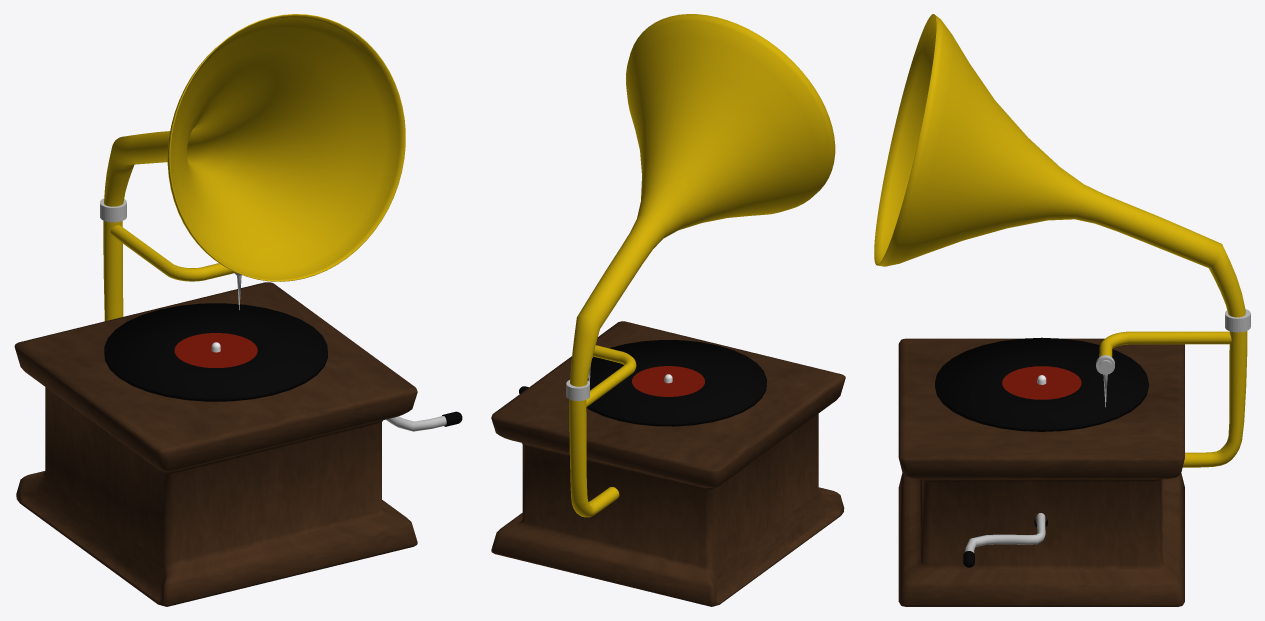
Rendered from tikuonki.fbx.
The picture shows the model from 3 angles, left to right: view 1: azimuth 30°, elevation 25°; view 2: azimuth 150°, elevation 25°; view 3: azimuth 270°, elevation 25°; orthographic projection. The views are drawn at different scales.
Visible parts, largest first — view 1: 立方体, 円柱.001, 円柱, トーラス, 円柱.004; view 2: 立方体, 円柱.001, 円柱, トーラス; view 3: 立方体, 円柱.001, 円柱, トーラス, 円柱.004.
Part boxes in pixels (box(x1,y1,x2,y2)): 立方体: box(14, 282, 417, 606); 円柱.001: box(103, 14, 405, 321); 円柱: box(104, 303, 327, 401); トーラス: box(110, 225, 242, 281); 円柱.004: box(386, 411, 462, 431); 立方体: box(491, 321, 845, 606); 円柱.001: box(569, 14, 835, 517); 円柱: box(586, 340, 766, 426); トーラス: box(586, 345, 636, 407); 立方体: box(898, 338, 1184, 606); 円柱.001: box(874, 14, 1247, 467); 円柱: box(935, 337, 1148, 431); トーラス: box(1096, 331, 1231, 374); 円柱.004: box(963, 513, 1047, 567).
Size of the model in its own units: 258 by 400 by 262.
Materials: 6 (1 with a texture image).
